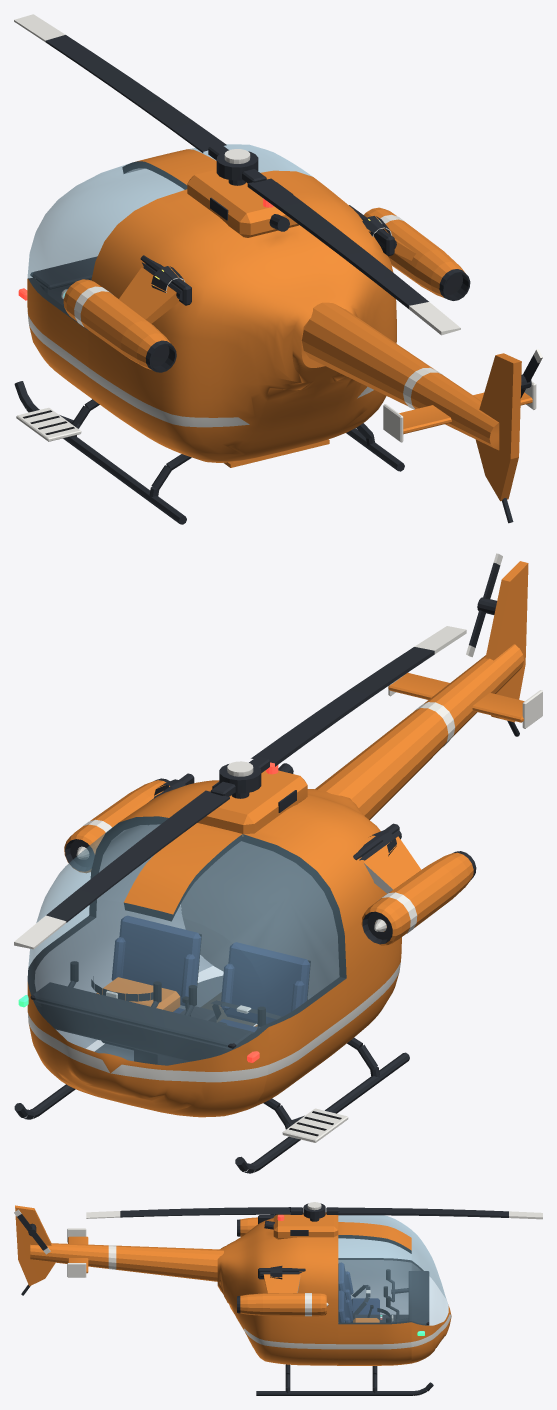
File: helicopter_boarding.glb
The picture shows the model from 3 angles, top to bottom: view 1: azimuth 30°, elevation 25°; view 2: azimuth 150°, elevation 25°; view 3: azimuth 270°, elevation 25°; orthographic projection. The views are drawn at different scales.
Visible parts, largest first — view 1: Body, Door_L, MainRotor, Windows, JetPod_L, FrameAndSkids, JetPod_R, Interior, Step_L, Door_R; view 2: Body, Windows, Interior, Door_L, MainRotor, Door_R, JetPod_L, Seat_L, Seat_R, FrameAndSkids, JetPod_R, Step_L (+2 smaller); view 3: Body, Door_R, Door_L, MainRotor, JetPod_R, Windows, FrameAndSkids, Interior, Seat_L, Seat_R, TailRotor, JetPod_L (+1 smaller).
Boxes of the visible parts, x1,y1,x2,y2 form: Body: (27, 149, 536, 523); Door_L: (28, 161, 186, 408); MainRotor: (14, 14, 460, 335); Windows: (27, 152, 212, 278); JetPod_L: (63, 262, 182, 372); FrameAndSkids: (14, 205, 404, 524); JetPod_R: (364, 207, 470, 300); Interior: (30, 256, 97, 305); Step_L: (16, 407, 81, 441); Door_R: (188, 144, 311, 176); Body: (27, 561, 542, 1117); Windows: (28, 899, 268, 1065); Interior: (30, 841, 339, 1065); Door_L: (173, 834, 346, 1109); MainRotor: (14, 626, 466, 949); Door_R: (28, 816, 168, 1040); JetPod_L: (359, 830, 476, 945); Seat_L: (220, 942, 310, 1031); Seat_R: (102, 915, 201, 1050); FrameAndSkids: (14, 773, 409, 1173); JetPod_R: (64, 778, 170, 872); Step_L: (282, 1108, 348, 1142); Body: (15, 1205, 451, 1365); Door_R: (338, 1235, 411, 1364); Door_L: (338, 1215, 411, 1309); MainRotor: (86, 1202, 542, 1221); JetPod_R: (237, 1272, 328, 1316); Windows: (411, 1230, 448, 1325); FrameAndSkids: (256, 1215, 433, 1395); Interior: (353, 1271, 429, 1324); Seat_L: (338, 1262, 379, 1322); Seat_R: (338, 1290, 353, 1322); TailRotor: (14, 1209, 50, 1254); JetPod_L: (237, 1217, 263, 1236).
Bounding box in the file's own units: 4.75 × 4.19 × 12.28.
